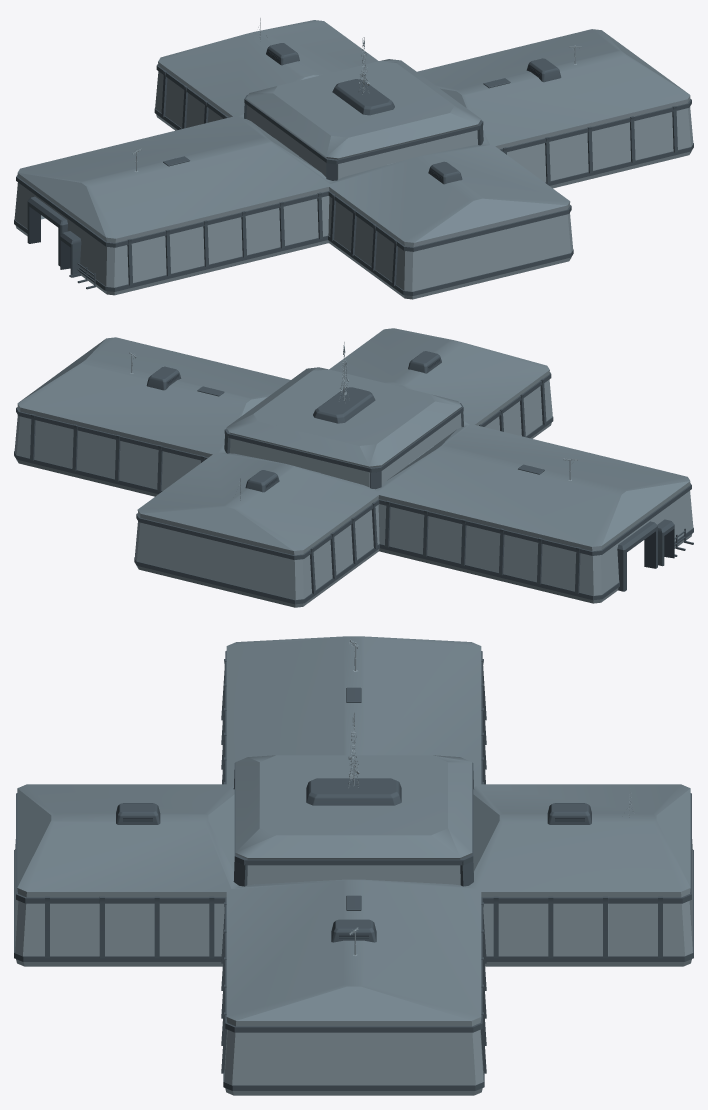
Rendered from ArcticBase_ExteriorShell.glb.
3 renders of one model, top to bottom at view 1: azimuth 30°, elevation 25°; view 2: azimuth 150°, elevation 25°; view 3: azimuth 270°, elevation 25°, orthographic. The views are drawn at different scales.
Visible parts, largest first — view 1: Base_ExteriorShell_Mesh, Roof_TechnicalEquipment; view 2: Base_ExteriorShell_Mesh, Roof_TechnicalEquipment; view 3: Base_ExteriorShell_Mesh, Roof_TechnicalEquipment.
Boxes of the visible parts, x1,y1,x2,y2 form: Base_ExteriorShell_Mesh: (14,20,693,299); Roof_TechnicalEquipment: (69,43,561,289); Base_ExteriorShell_Mesh: (14,328,693,607); Roof_TechnicalEquipment: (146,351,693,556); Base_ExteriorShell_Mesh: (14,636,693,1095); Roof_TechnicalEquipment: (116,687,591,942).
Size of the model in its own units: 76.47 by 19.1 by 56.7.
